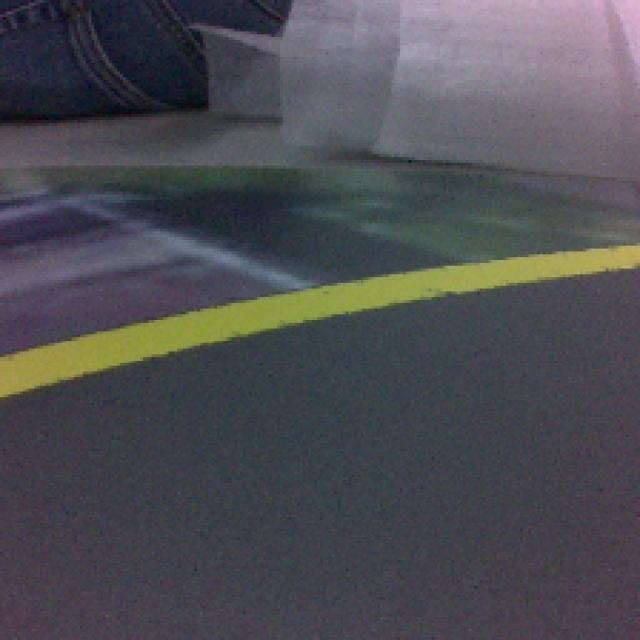Guard rail: (0, 244, 640, 393)
